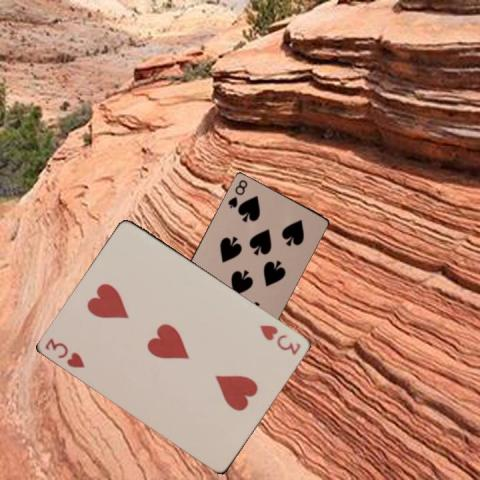3h: (256, 321, 302, 356), (42, 335, 87, 369)
8s: (224, 177, 248, 209)
